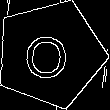O_N: (26, 28, 74, 80)
